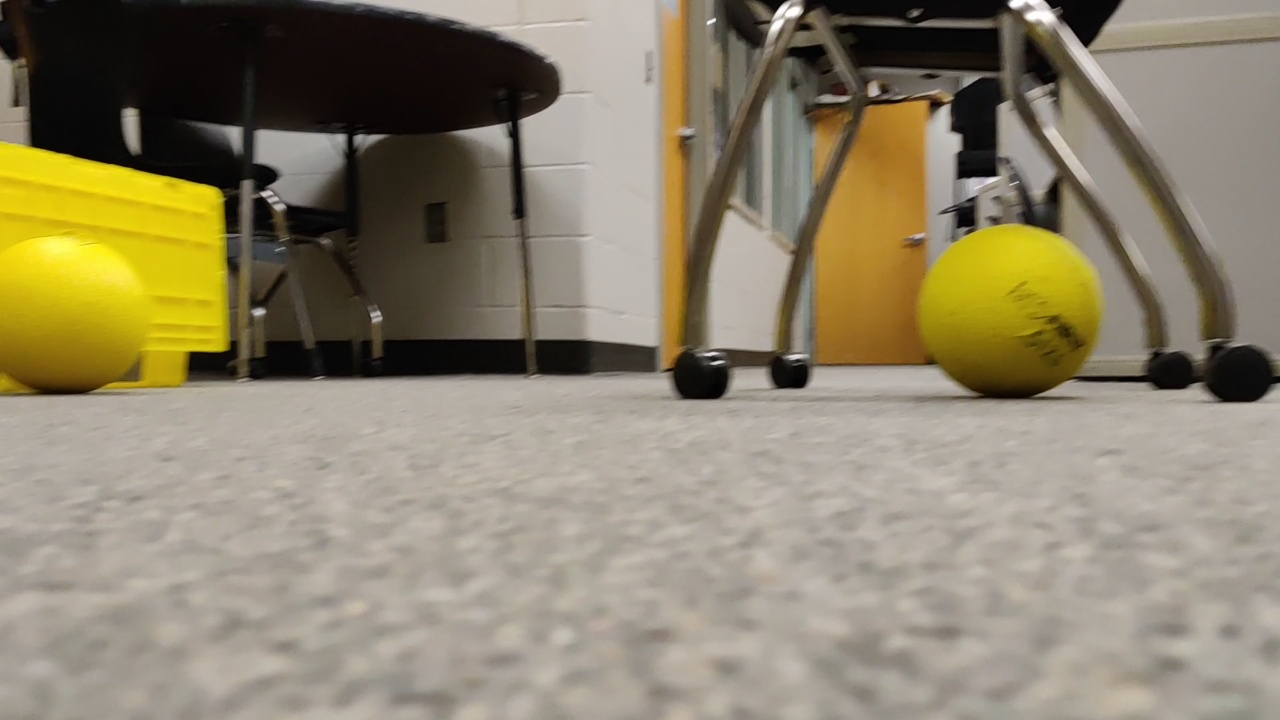Ball: (924, 221, 1110, 404), (1, 233, 149, 407)
